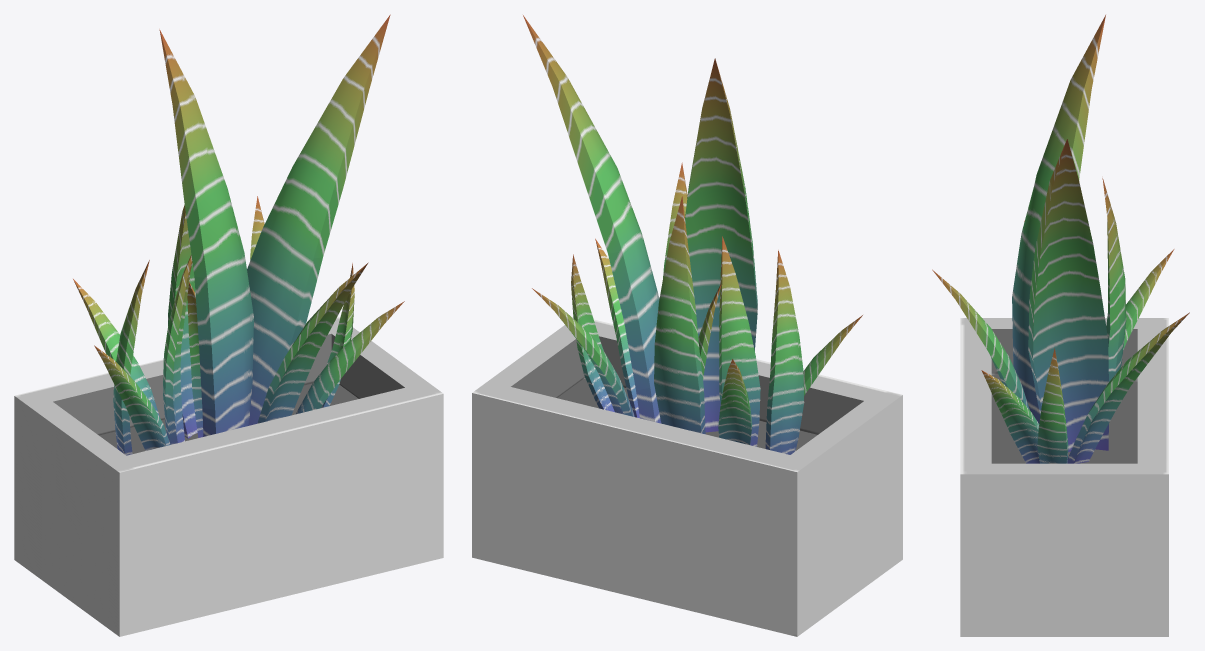
The model's file is PlantMesh_001.fbx.
3 renders of one model, left to right at view 1: azimuth 30°, elevation 25°; view 2: azimuth 150°, elevation 25°; view 3: azimuth 270°, elevation 25°, orthographic.
Visible parts, largest first — view 1: Plant_001; view 2: Plant_001; view 3: Plant_001.
Boxes of the visible parts, x1=… form: Plant_001: x1=14, y1=14, x2=443, y2=636; Plant_001: x1=472, y1=15, x2=902, y2=636; Plant_001: x1=932, y1=15, x2=1189, y2=636.
Bounding box in the file's own units: 0.0184 × 0.0285 × 0.0129.
1 material, 1 textured.
